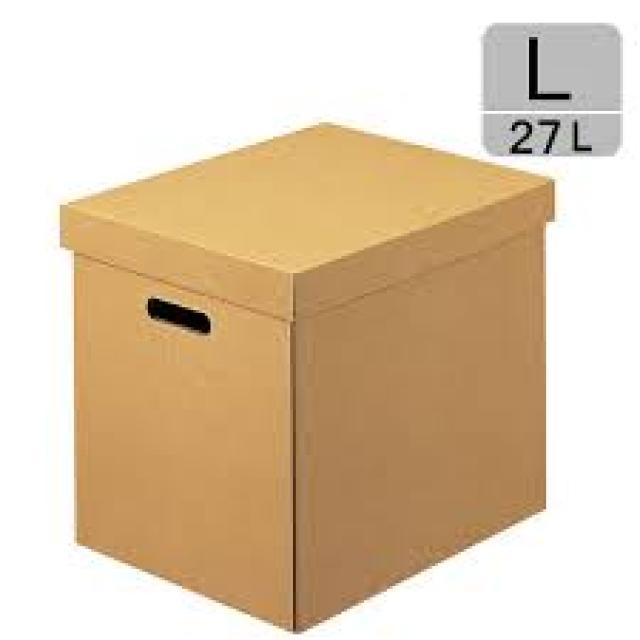Cardboard: (61, 121, 556, 628)
